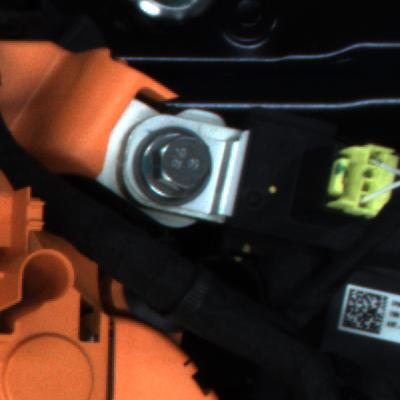nut_b: (127, 125, 232, 210)
